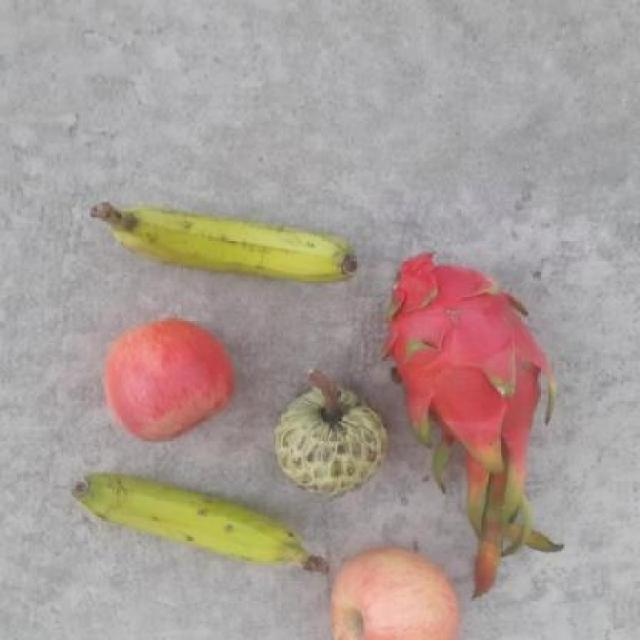apple: (100, 317, 235, 441), (326, 546, 465, 640)
banana: (71, 473, 334, 576), (98, 203, 362, 283)
dragon fruit: (383, 242, 555, 488)
sugar apple: (273, 382, 392, 496)
